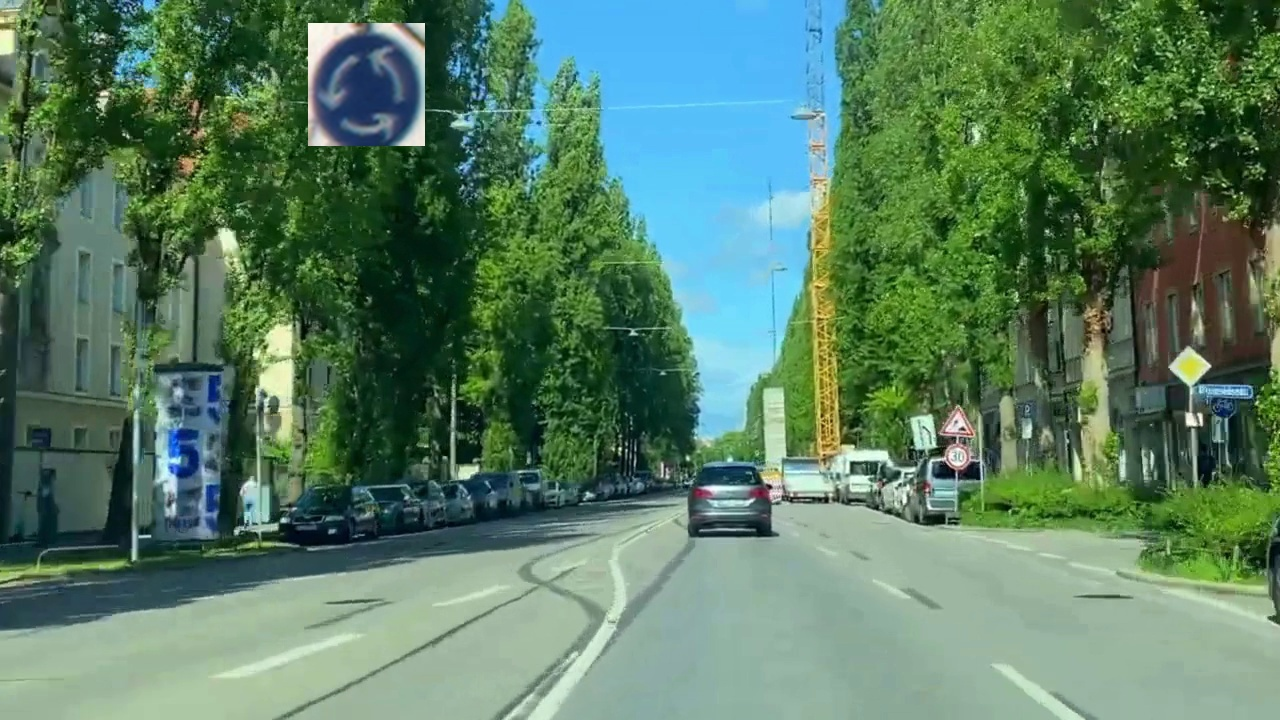Roundabout: (308, 23, 425, 146)
